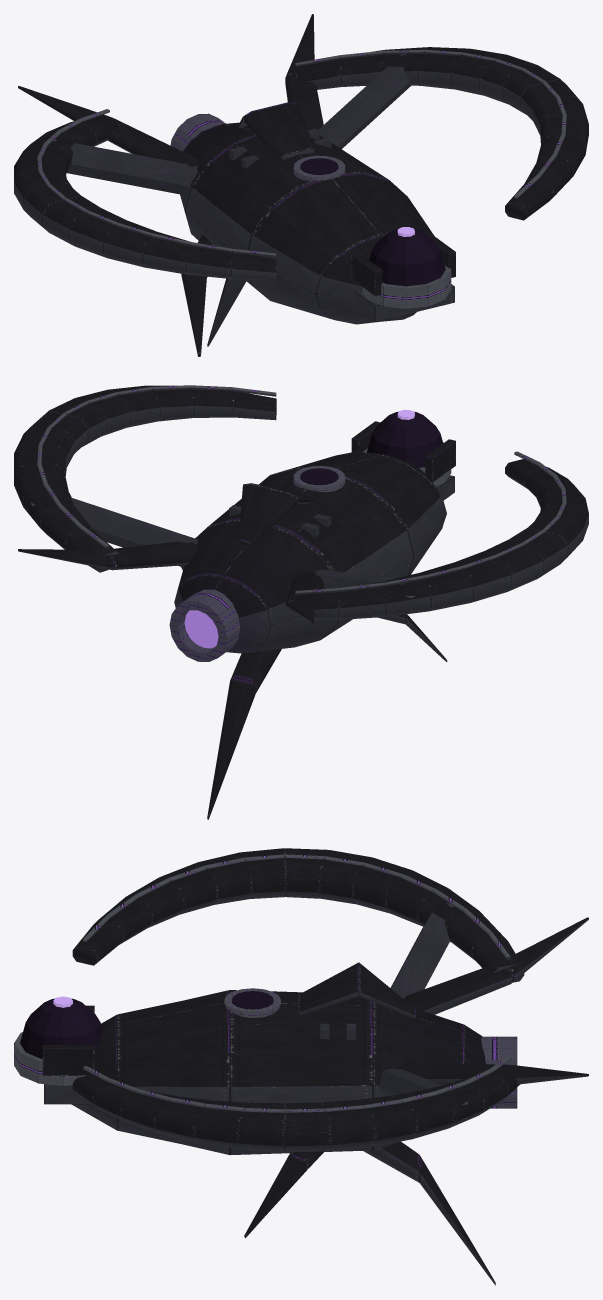
File: pioneer-eris-l09-shield.glb
The picture shows the model from 3 angles, top to bottom: view 1: azimuth 30°, elevation 25°; view 2: azimuth 150°, elevation 25°; view 3: azimuth 270°, elevation 25°; orthographic projection. The views are drawn at different scales.
Parts seen in each view (by area): view 1: Drone; view 2: Drone; view 3: Drone.
Boxes of the visible parts, left/top/right/bottom form: Drone: left=14, top=14, right=588, bottom=356; Drone: left=14, top=385, right=588, bottom=819; Drone: left=14, top=848, right=588, bottom=1285.
Size of the model in its own units: 1.75 by 0.9071 by 1.52.
3 materials, 3 textured.
